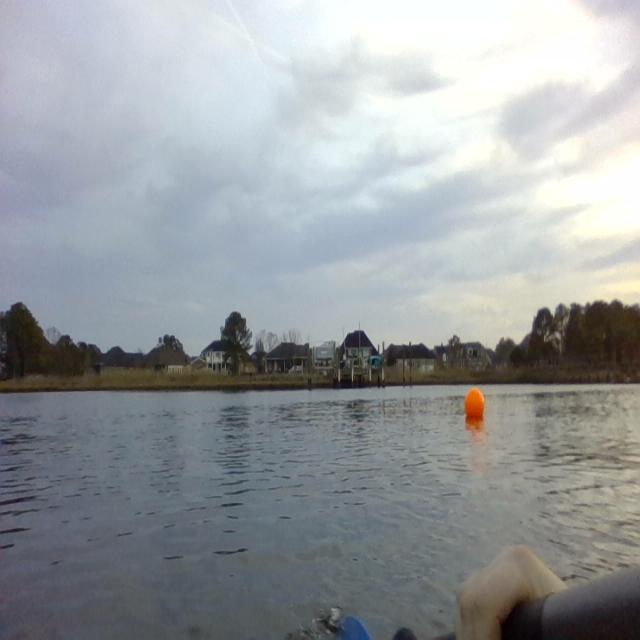Buoy: (462, 385, 487, 423)
